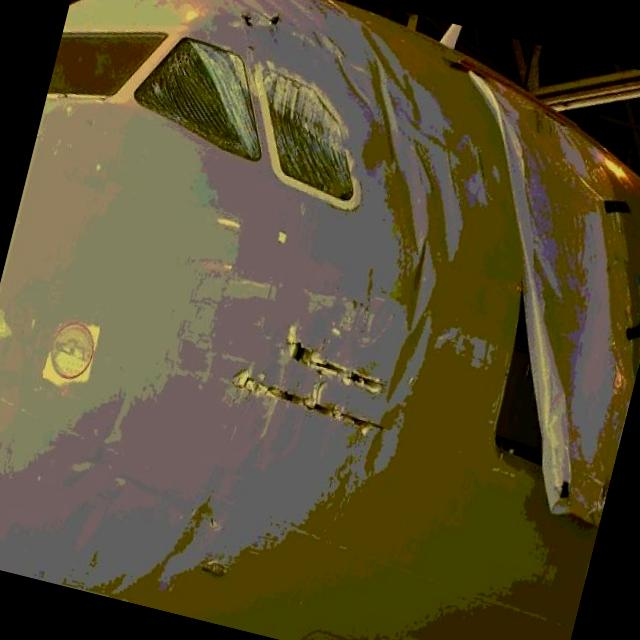crack: (211, 313, 405, 445)
